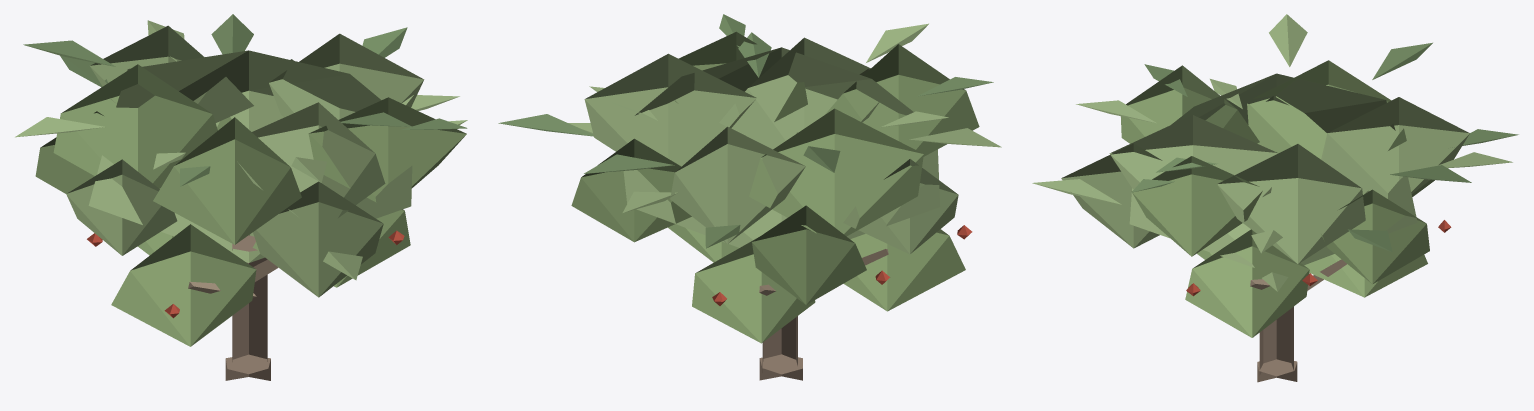
Rendered from shu.chuilui@fruiting__summer.glb.
The picture shows the model from 3 angles, left to right: view 1: azimuth 30°, elevation 25°; view 2: azimuth 150°, elevation 25°; view 3: azimuth 270°, elevation 25°; orthographic projection. The views are drawn at different scales.
Parts seen in each view (by area): view 1: shu.chuilui@fruiting__summer; view 2: shu.chuilui@fruiting__summer; view 3: shu.chuilui@fruiting__summer.
Part boxes in pixels (<box>): shu.chuilui@fruiting__summer: <box>15,14,467,380</box>; shu.chuilui@fruiting__summer: <box>498,14,1001,380</box>; shu.chuilui@fruiting__summer: <box>1032,14,1518,382</box>.
Bounding box in the file's own units: 15.32 × 10.49 × 15.84.
